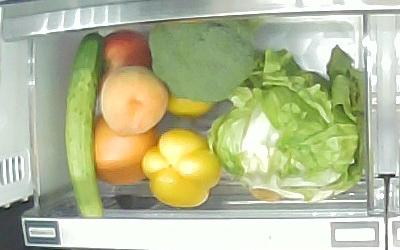apple: (99, 30, 151, 70)
broccoli: (149, 19, 254, 101)
cucumber: (65, 32, 105, 217)
grapefruit: (93, 113, 160, 186)
lettuce: (208, 44, 363, 203)
paprika: (142, 128, 221, 207)
peach: (101, 65, 169, 135)
